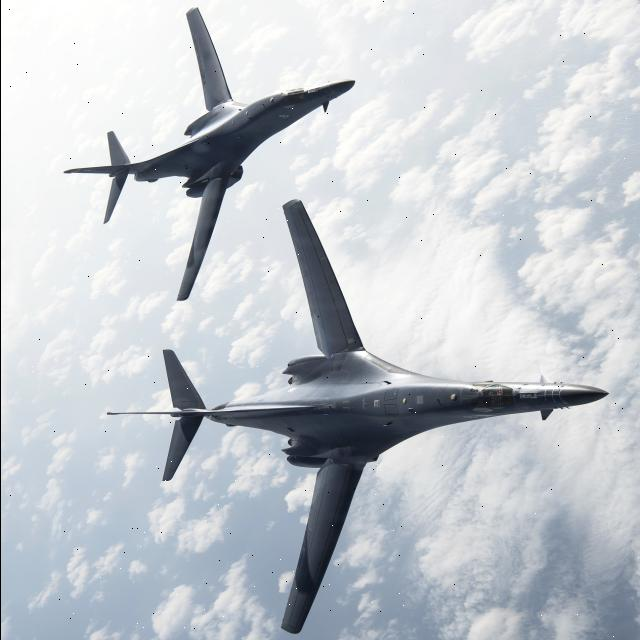B1: (87, 199, 617, 640), (48, 2, 363, 312)
